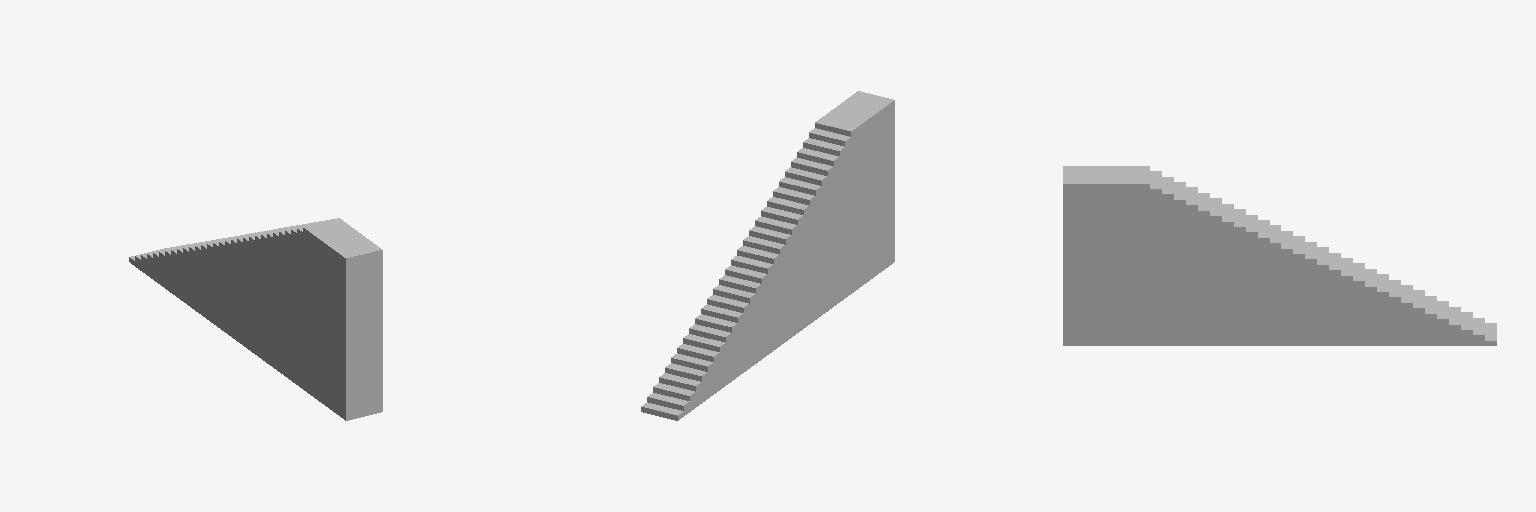
File: Stairs.obj
3 renders of one model, left to right at view 1: azimuth 30°, elevation 25°; view 2: azimuth 150°, elevation 25°; view 3: azimuth 270°, elevation 25°, orthographic.
Parts seen in each view (by area): view 1: Stairs; view 2: Stairs; view 3: Stairs.
Part boxes in pixels (bbox=[...]): Stairs: bbox=[129, 218, 382, 420]; Stairs: bbox=[641, 91, 894, 420]; Stairs: bbox=[1063, 166, 1496, 345].
Size of the model in its own units: 3.56 by 15.01 by 36.25.